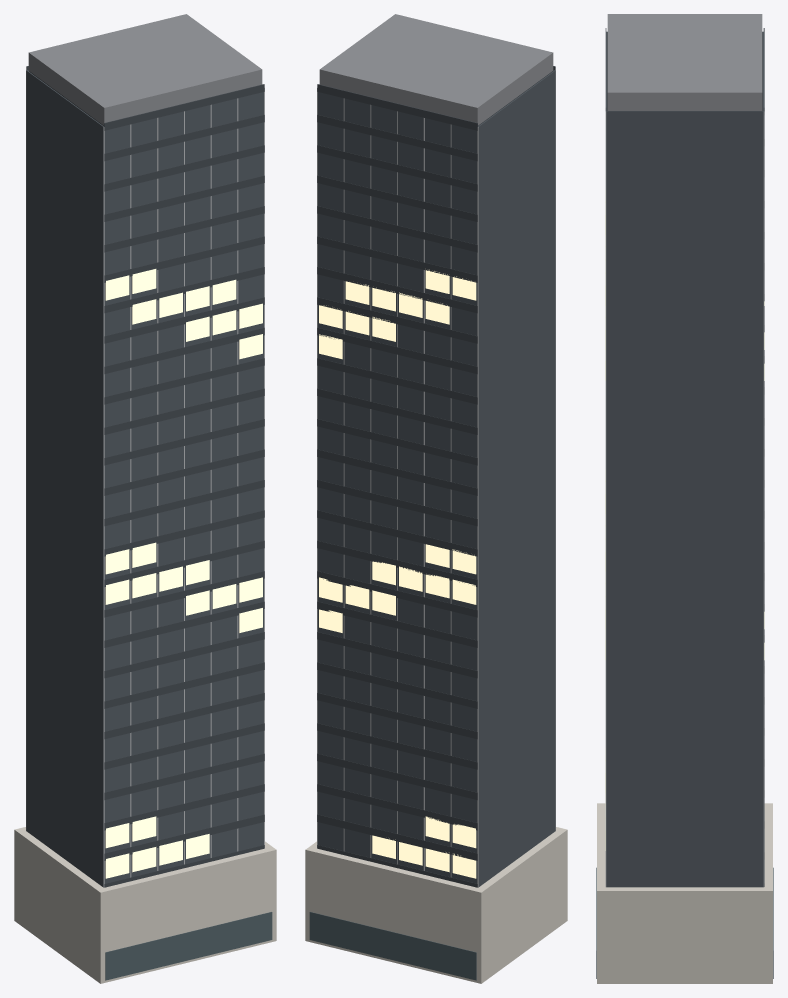
Rendered from tower_res_silver_28.glb.
3 renders of one model, left to right at view 1: azimuth 30°, elevation 25°; view 2: azimuth 150°, elevation 25°; view 3: azimuth 270°, elevation 25°, orthographic.
Parts seen in each view (by area): view 1: tower_res_silver_28; view 2: tower_res_silver_28; view 3: tower_res_silver_28.
Part boxes in pixels (box(x1,y1,x2,y2)): tower_res_silver_28: box(14, 14, 276, 983); tower_res_silver_28: box(305, 14, 567, 983); tower_res_silver_28: box(596, 14, 773, 983).
Bounding box in the file's own units: 22.4 × 106 × 19.14.
